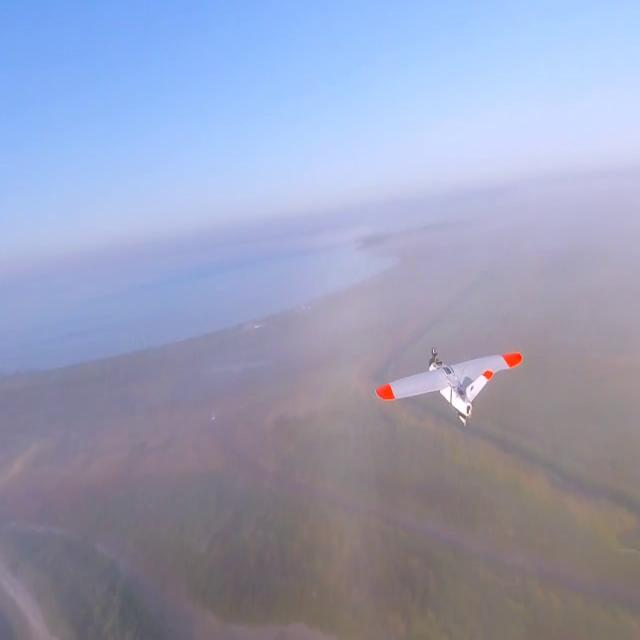iha: (373, 377, 521, 394)
